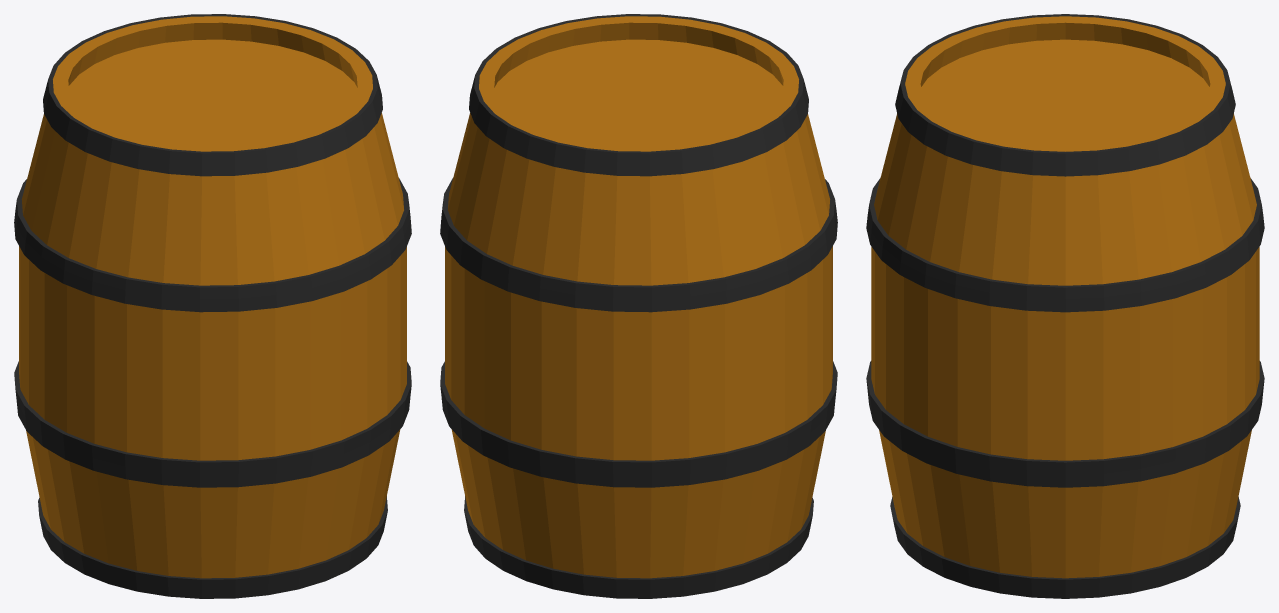
File: Barrel.fbx
3 views of the same model, side by side, from view 1: azimuth 30°, elevation 25°; view 2: azimuth 150°, elevation 25°; view 3: azimuth 270°, elevation 25° (orthographic).
Parts seen in each view (by area): view 1: Circle.008; view 2: Circle.008; view 3: Circle.008.
Part boxes in pixels (x1,y1,x2,y2): Circle.008: [14, 14, 411, 598]; Circle.008: [440, 14, 837, 598]; Circle.008: [866, 14, 1264, 598].
Bounding box in the file's own units: 24.71 × 30.31 × 24.71.
